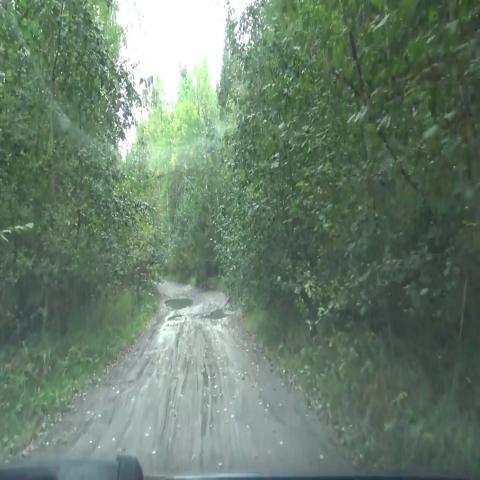pothole: (159, 286, 201, 316), (201, 304, 233, 328), (162, 313, 190, 329)
